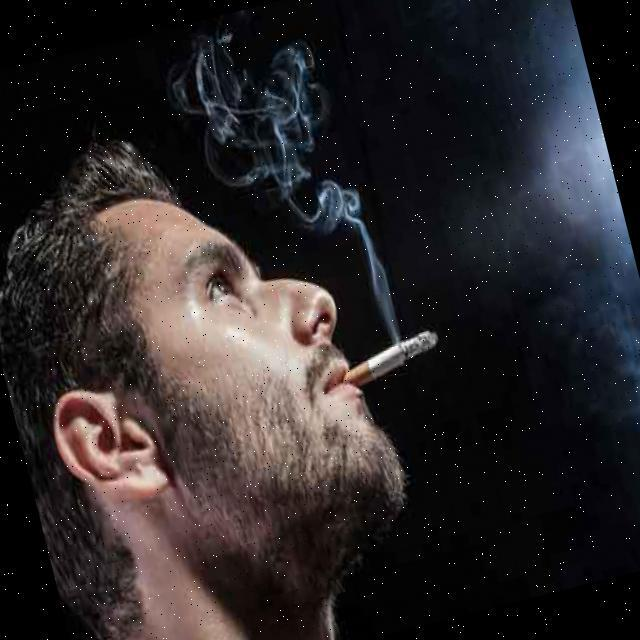cigarette: (344, 320, 444, 386)
